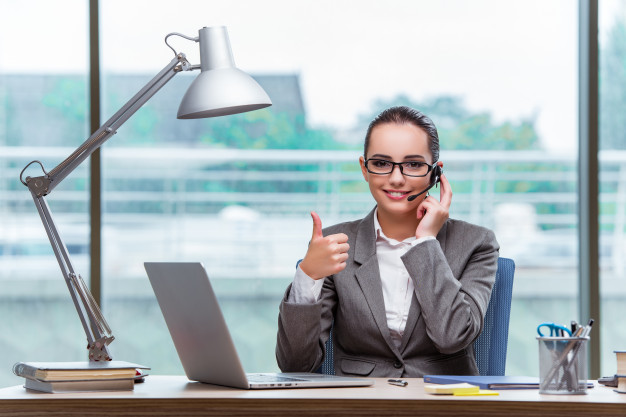thumbsup: (311, 211, 350, 271)
